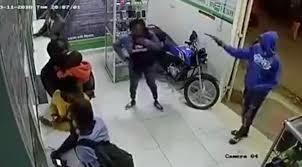weapon: (202, 30, 221, 46)
